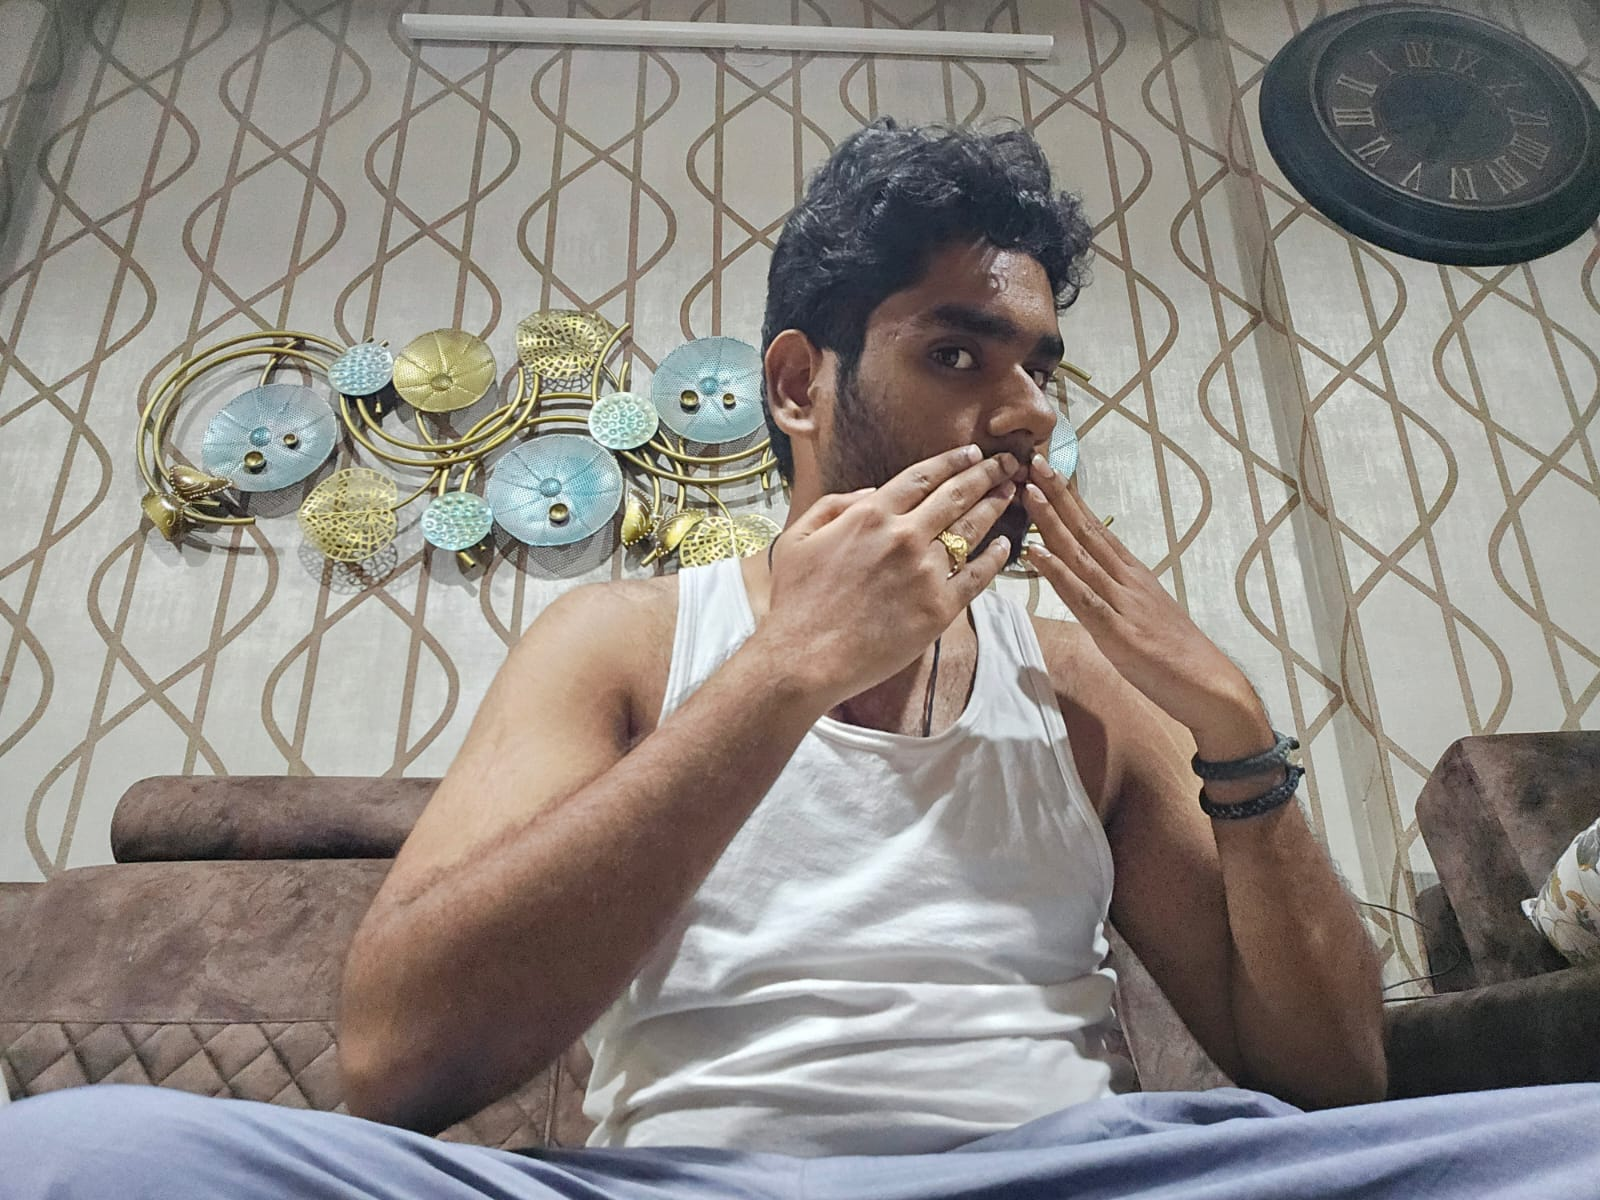thank you: (770, 445, 1245, 717)
